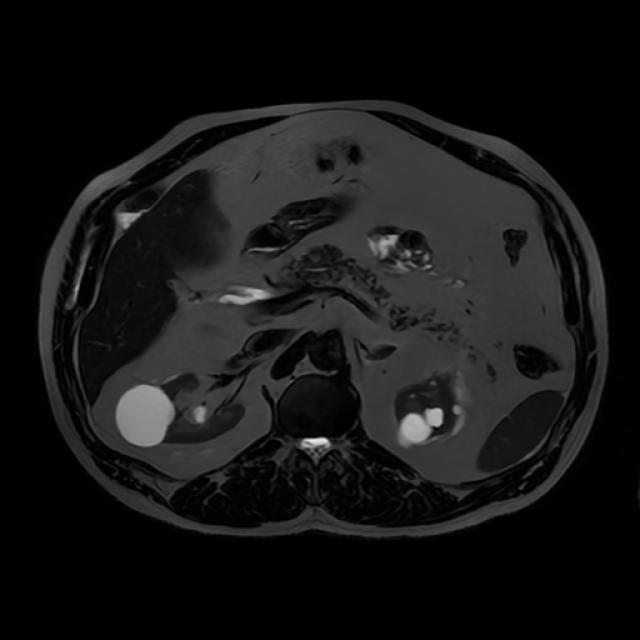sag: (113, 373, 245, 448)
sol: (395, 365, 470, 449)
